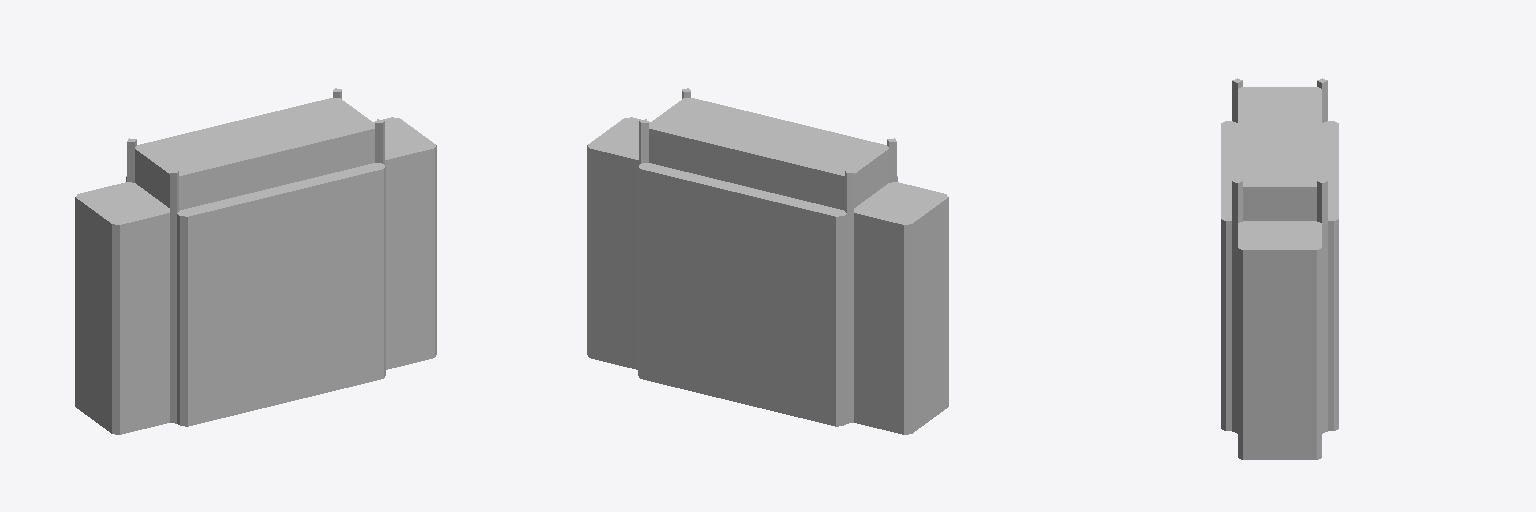
Rendered from skyscraper10.obj.
The picture shows the model from 3 angles: view 1: azimuth 30°, elevation 25°; view 2: azimuth 150°, elevation 25°; view 3: azimuth 270°, elevation 25°; orthographic projection.
Parts seen in each view (by area): view 1: e; view 2: e; view 3: e.
Part boxes in pixels (left/top/right/bottom): e: left=75, top=88, right=436, bottom=434; e: left=587, top=88, right=948, bottom=434; e: left=1221, top=78, right=1338, bottom=459.
Bounding box in the file's own units: 702 × 517 × 223.